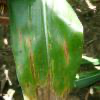Corn leaf blight: (8, 1, 81, 99)
